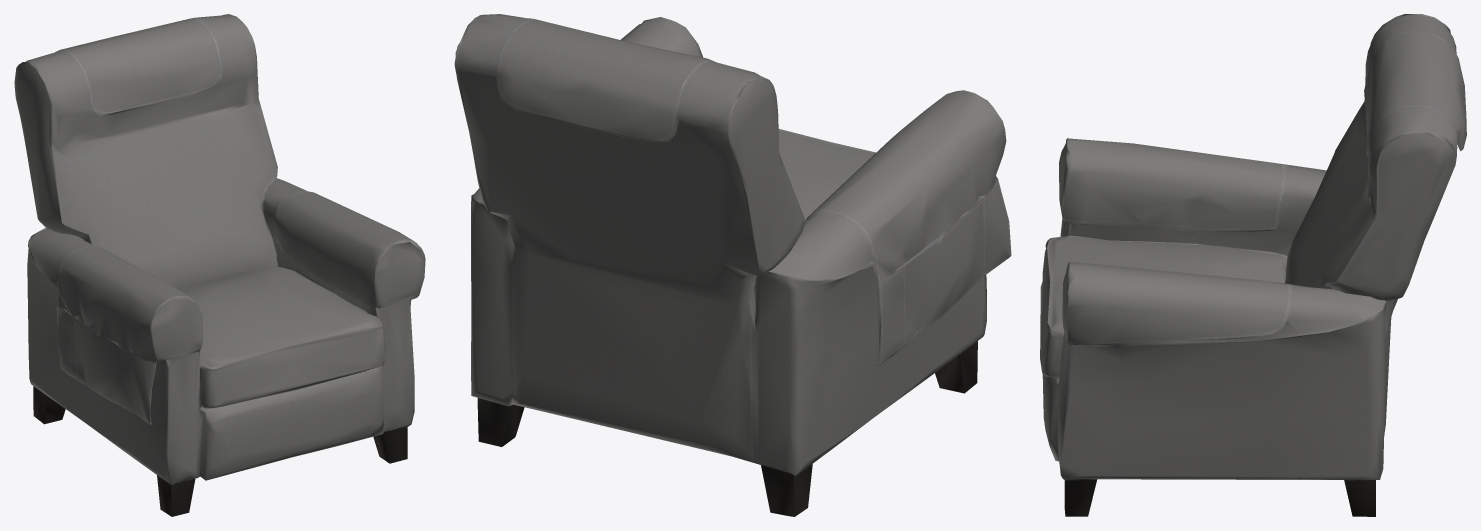
3 renders of one model, left to right at view 1: azimuth 30°, elevation 25°; view 2: azimuth 150°, elevation 25°; view 3: azimuth 270°, elevation 25°, orthographic. The views are drawn at different scales.
Parts seen in each view (by area): view 1: 00438553-MUREN001; view 2: 00438553-MUREN001; view 3: 00438553-MUREN001.
Part boxes in pixels (x1,y1,x2,y2): 00438553-MUREN001: (14, 14, 425, 516); 00438553-MUREN001: (454, 14, 1011, 516); 00438553-MUREN001: (1040, 14, 1466, 516).
Size of the model in its own units: 0.8546 by 0.976 by 0.9785.
Materials: 1 (1 with a texture image).
